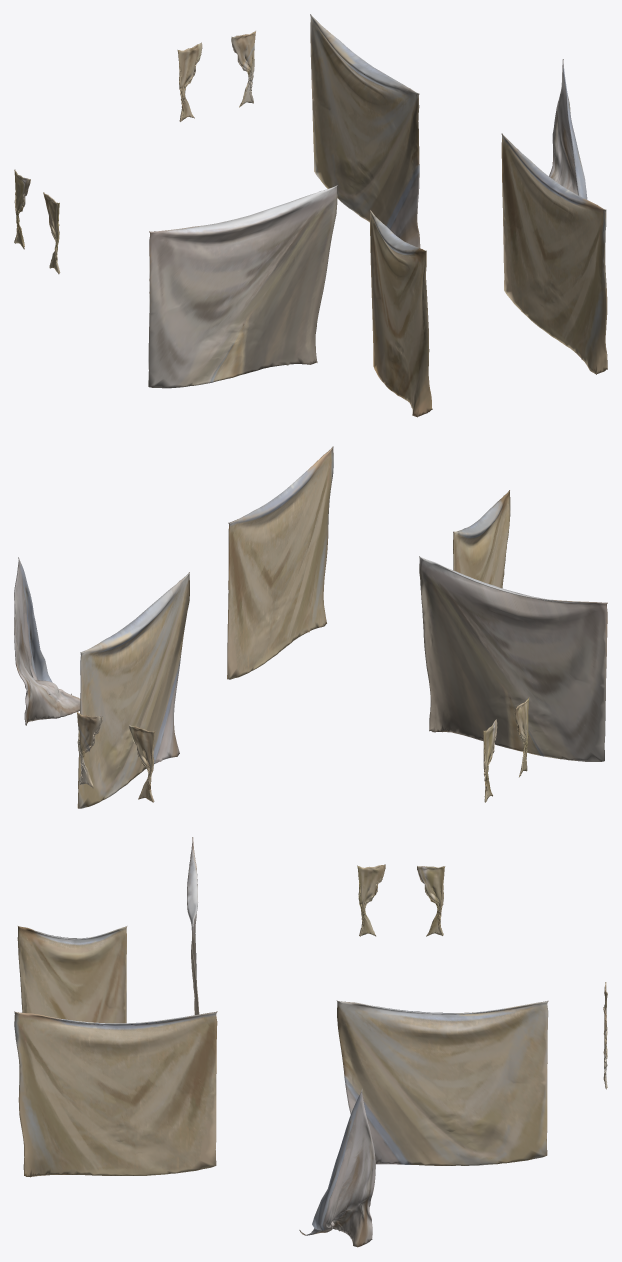
File: InterieurMaison_02.fbx
3 views of the same model, one above another, from view 1: azimuth 30°, elevation 25°; view 2: azimuth 150°, elevation 25°; view 3: azimuth 270°, elevation 25° (orthographic). The views are drawn at different scales.
Parts seen in each view (by area): view 1: InterieurMaison_02; view 2: InterieurMaison_02; view 3: InterieurMaison_02.
Part boxes in pixels (x1=…): InterieurMaison_02: x1=14, y1=14, x2=607, y2=417; InterieurMaison_02: x1=14, y1=446, x2=607, y2=808; InterieurMaison_02: x1=14, y1=837, x2=607, y2=1247.
Size of the model in its own units: 893 by 299 by 916.
